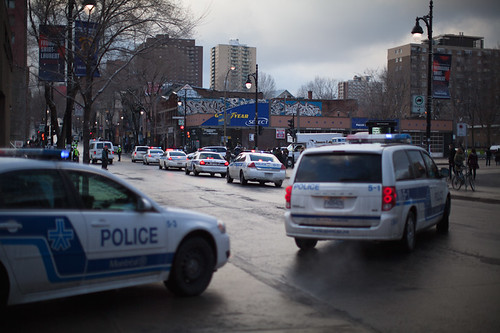building: (389, 33, 500, 118), (175, 99, 376, 137), (125, 35, 202, 94), (205, 41, 264, 104)
policeman: (1, 150, 251, 298), (275, 135, 455, 254), (225, 148, 289, 192), (184, 148, 230, 181), (157, 148, 189, 175), (133, 141, 165, 166)
sky: (188, 6, 486, 72)
tree: (23, 1, 188, 170)
